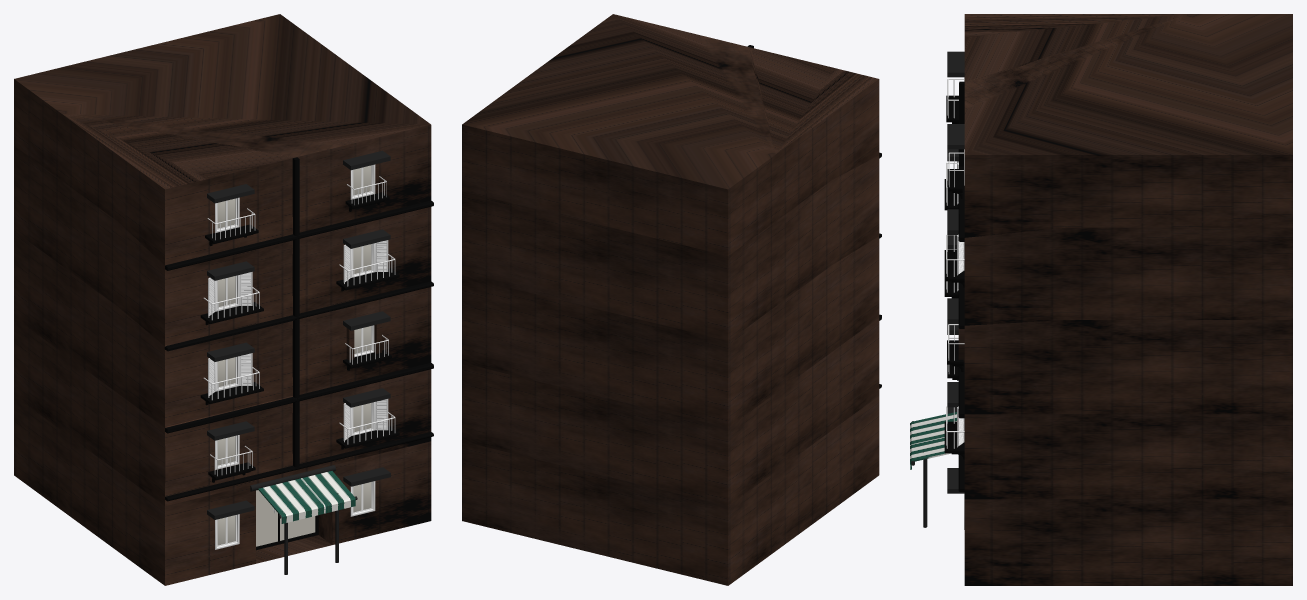
The model's file is buildingtrial1.fbx.
3 views of the same model, side by side, from view 1: azimuth 30°, elevation 25°; view 2: azimuth 150°, elevation 25°; view 3: azimuth 270°, elevation 25° (orthographic). The views are drawn at different scales.
Parts seen in each view (by area): view 1: Cube.002, Cube.014, Cube, Plane.038, Plane.034, Plane.028, Plane.010, Cube.003, Plane.048, Plane.018, Plane.044, Plane.024 (+11 smaller); view 2: Cube.002; view 3: Cube.002, Cube.014, Cube, Plane.034, Plane.010, Plane.044.
Boxes of the visible parts, x1=… form: Cube.002: x1=14, y1=14, x2=431, y2=585; Cube.014: x1=164, y1=157, x2=433, y2=501; Cube: x1=258, y1=471, x2=355, y2=523; Plane.038: x1=200, y1=272, x2=263, y2=325; Plane.034: x1=336, y1=240, x2=399, y2=291; Plane.028: x1=200, y1=353, x2=263, y2=405; Plane.010: x1=336, y1=399, x2=399, y2=449; Cube.003: x1=256, y1=490, x2=315, y2=546; Plane.048: x1=205, y1=197, x2=258, y2=245; Plane.018: x1=208, y1=435, x2=255, y2=482; Plane.044: x1=345, y1=164, x2=389, y2=211; Plane.024: x1=343, y1=325, x2=391, y2=370; Cube.002: x1=462, y1=14, x2=879, y2=585; Cube.002: x1=958, y1=14, x2=1292, y2=585; Cube.014: x1=958, y1=81, x2=964, y2=491; Cube: x1=910, y1=412, x2=956, y2=469; Plane.034: x1=944, y1=234, x2=964, y2=287; Plane.010: x1=944, y1=406, x2=964, y2=459; Plane.044: x1=947, y1=149, x2=964, y2=198.
Bounding box in the file's own units: 1039 × 1481 × 1190.
